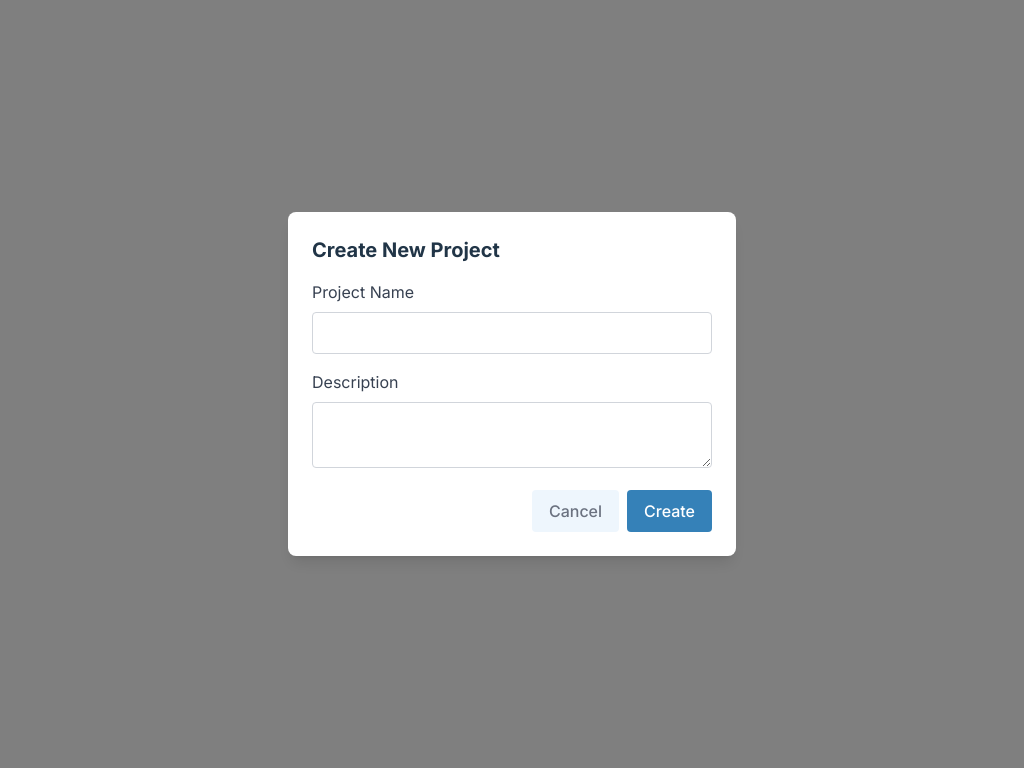
Test: CreateProjectModal › shows error on API failure
Type "Test" into the field labelled "Project Name" at (512, 333), box [312, 312, 712, 354]
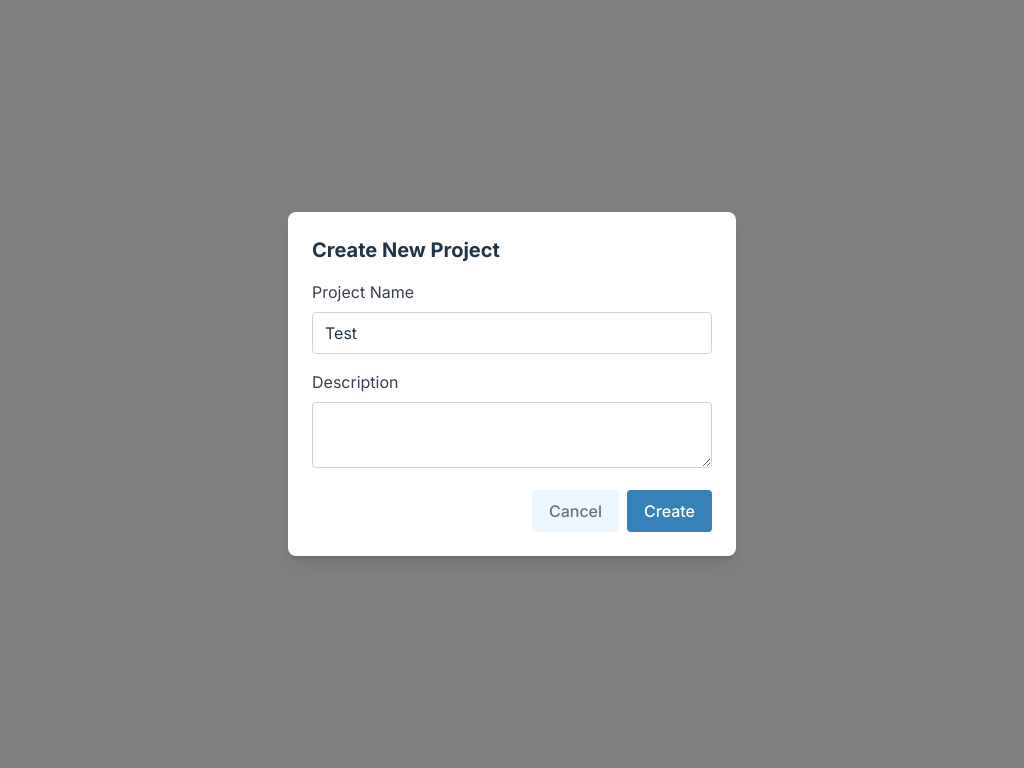
Click the button "Create" at (670, 511), box [627, 490, 712, 532]
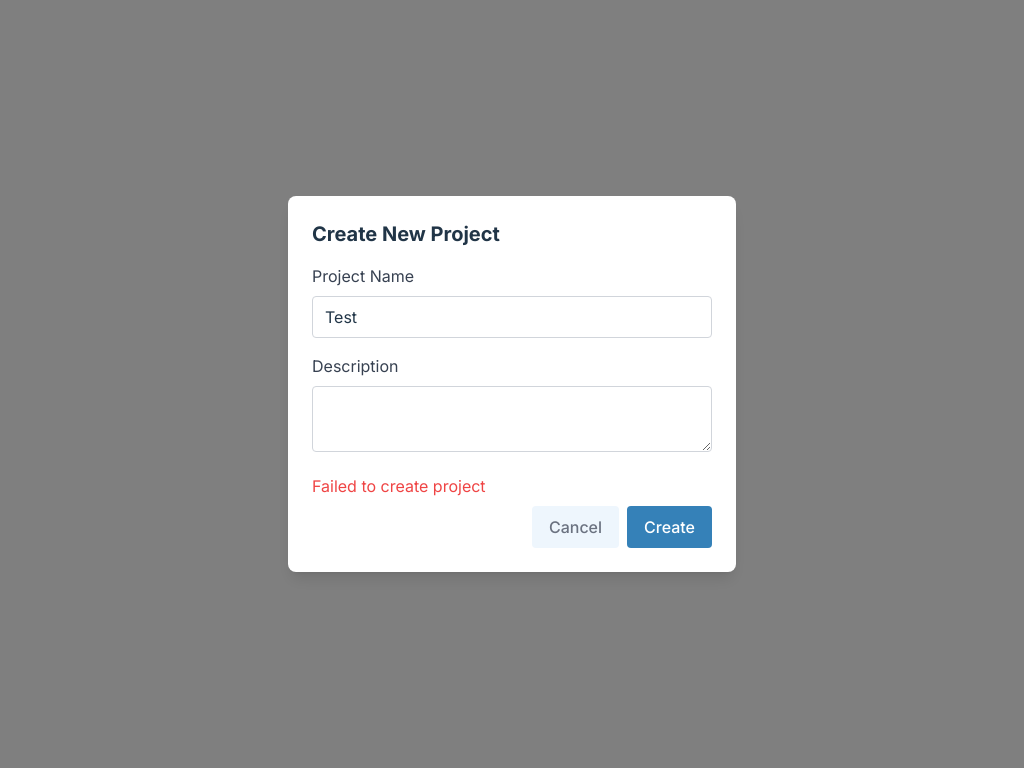
Expected: the text "Failed to create project" is shown, [312, 476, 486, 496]
